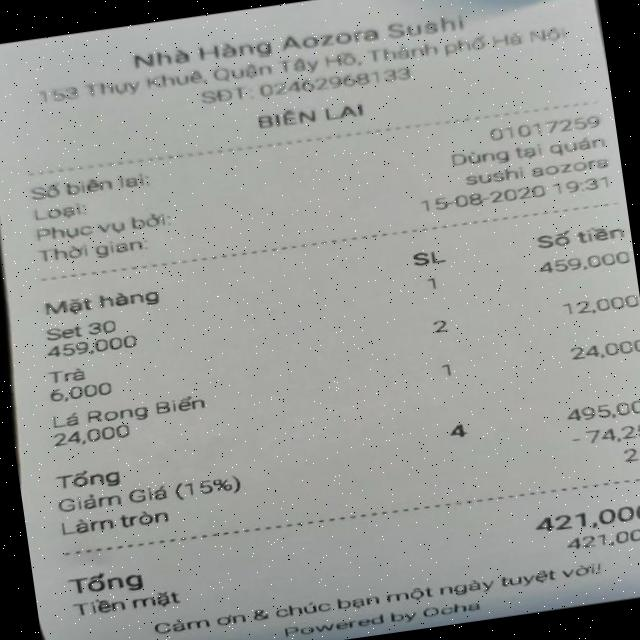Date: (419, 174, 552, 218)
Store_Name: (125, 0, 473, 79)
amount_number: (529, 493, 640, 537)
label_total: (68, 562, 149, 603)
